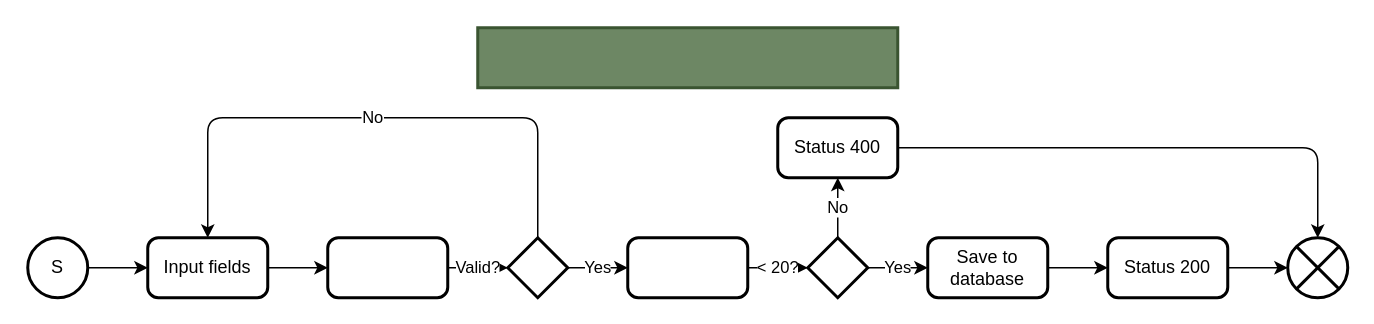
Image size: 1374x324. Some labels were removed from this diagram. Here are the shapes that lost their labels. From the top down, the box of each, then its label:
(476, 26, 898, 88): Create New Album
(326, 236, 448, 298): Validate fields
(626, 236, 748, 298): Get album count
